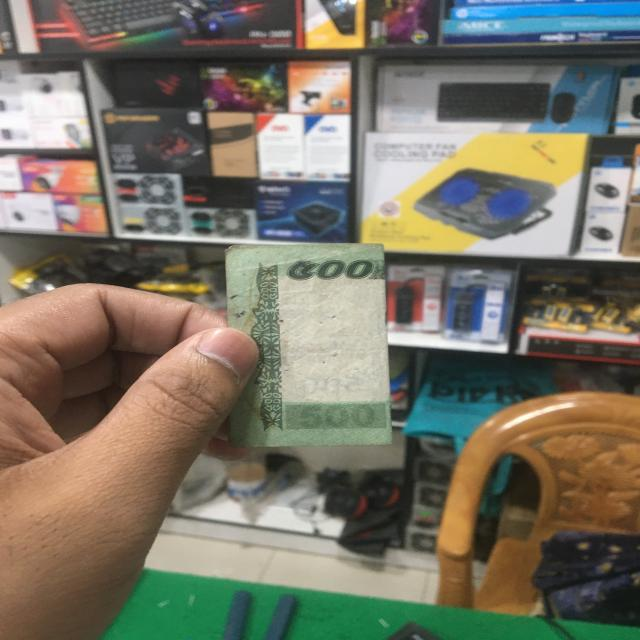Taka: (225, 242, 388, 441)
